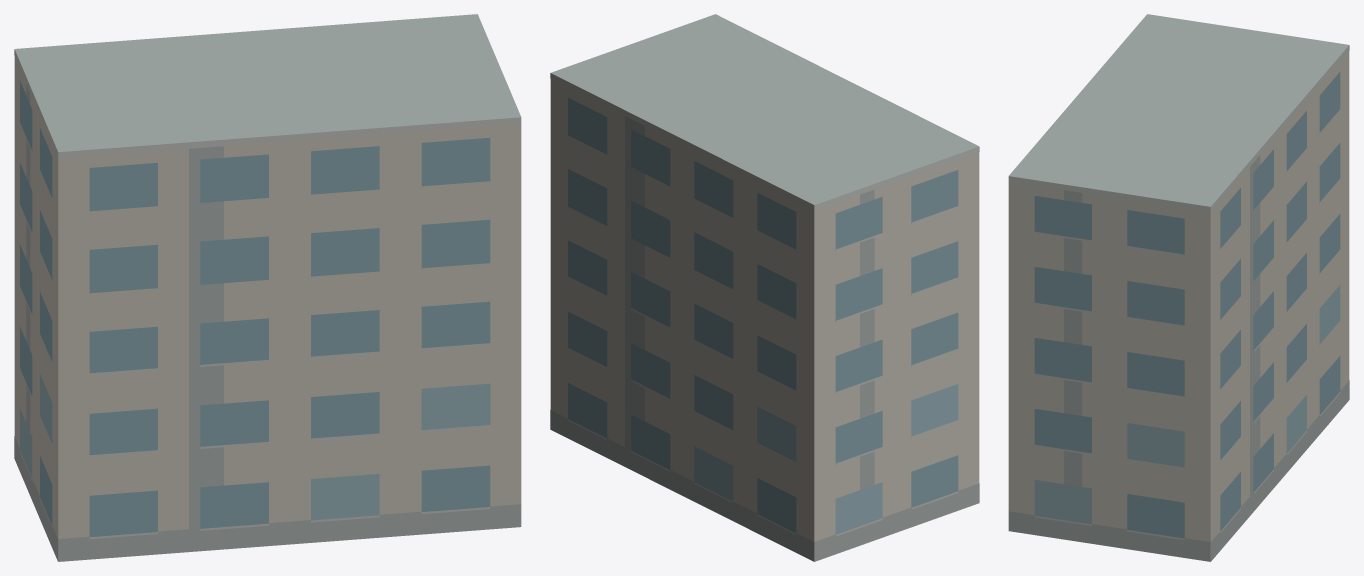
The model's file is residential-3cc83fda-0573-4179-8a6f-c4dbfa8e8e23.glb.
3 views of the same model, side by side, from view 1: azimuth 30°, elevation 25°; view 2: azimuth 150°, elevation 25°; view 3: azimuth 270°, elevation 25° (orthographic). The views are drawn at different scales.
Visible parts, largest first — view 1: residential-3cc83fda-0573-4179-8a6f-c4dbfa8e8e23.tmp; view 2: residential-3cc83fda-0573-4179-8a6f-c4dbfa8e8e23.tmp; view 3: residential-3cc83fda-0573-4179-8a6f-c4dbfa8e8e23.tmp.
Boxes of the visible parts, x1,y1,x2,y2 form: residential-3cc83fda-0573-4179-8a6f-c4dbfa8e8e23.tmp: (14, 14, 521, 561); residential-3cc83fda-0573-4179-8a6f-c4dbfa8e8e23.tmp: (550, 14, 979, 561); residential-3cc83fda-0573-4179-8a6f-c4dbfa8e8e23.tmp: (1008, 14, 1349, 561).
Size of the model in its own units: 17.78 by 15.25 by 13.28.
